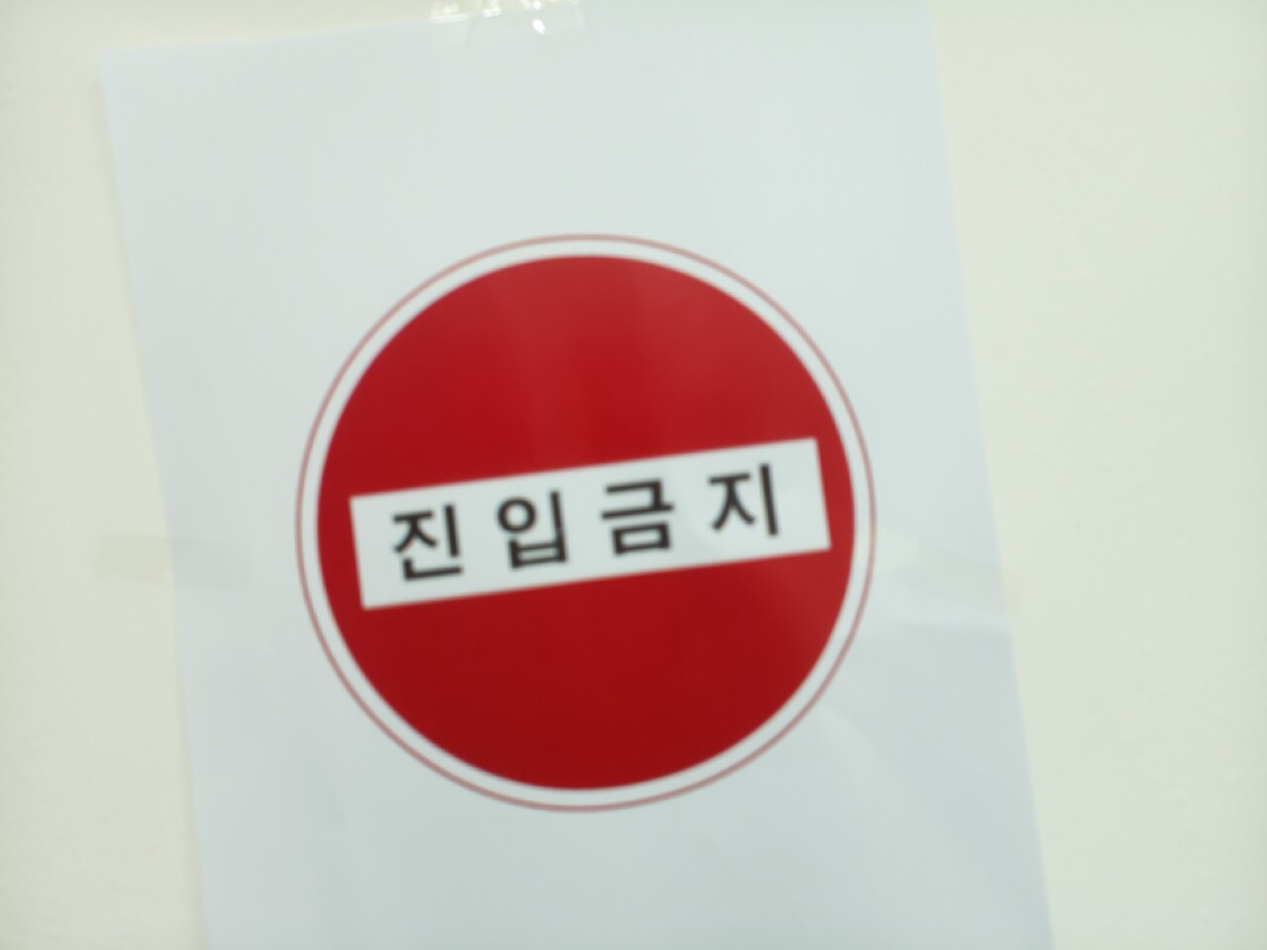do_not_enter: (302, 241, 870, 805)
